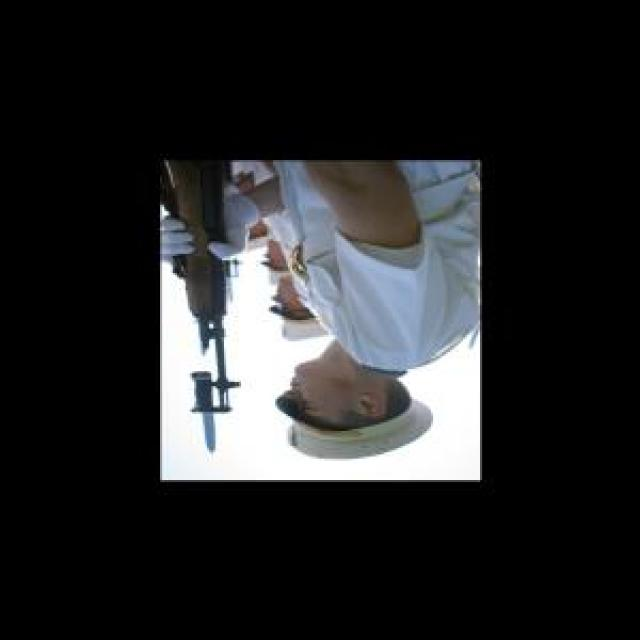knife: (190, 365, 225, 456)
